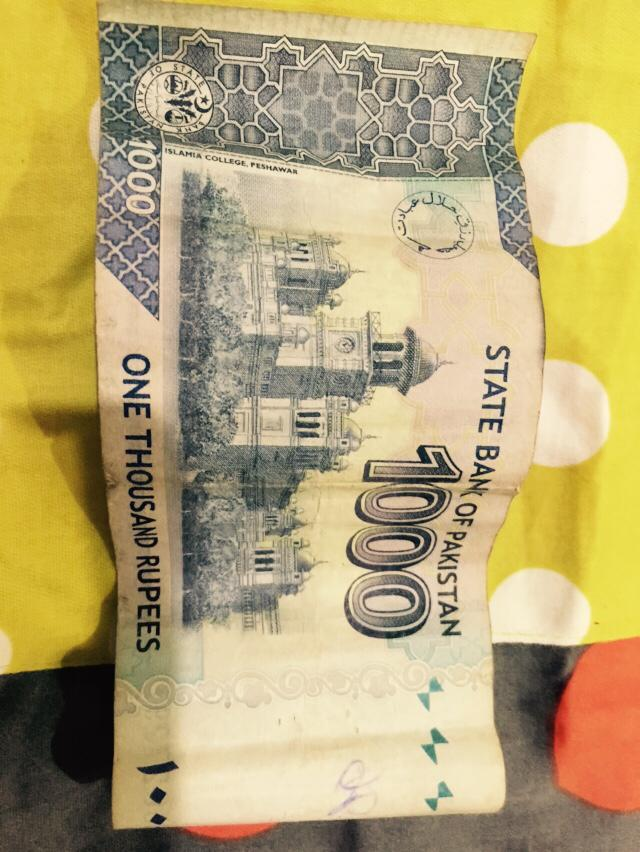1000 rupee: (77, 16, 554, 823)
